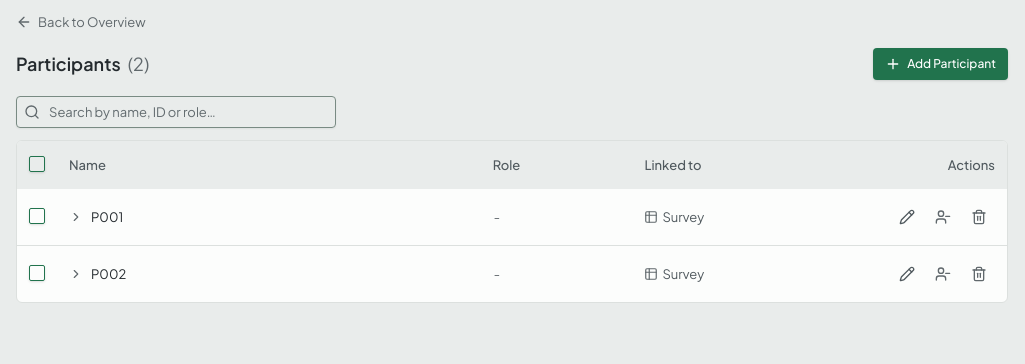
it: #1090 — the filter row › no orphan: selecting a row shows the selection bar and NO lone filter button
Expected: the text "P001" is shown, [91, 207, 123, 227]
Click the checkbox named "Select P001".
click(37, 216)  # box [29, 208, 45, 224]
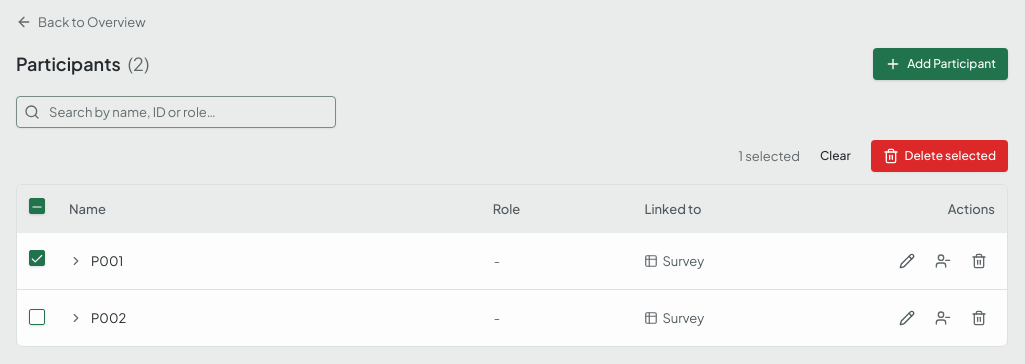
Now the text "1 selected" is shown, box [738, 146, 800, 166]
